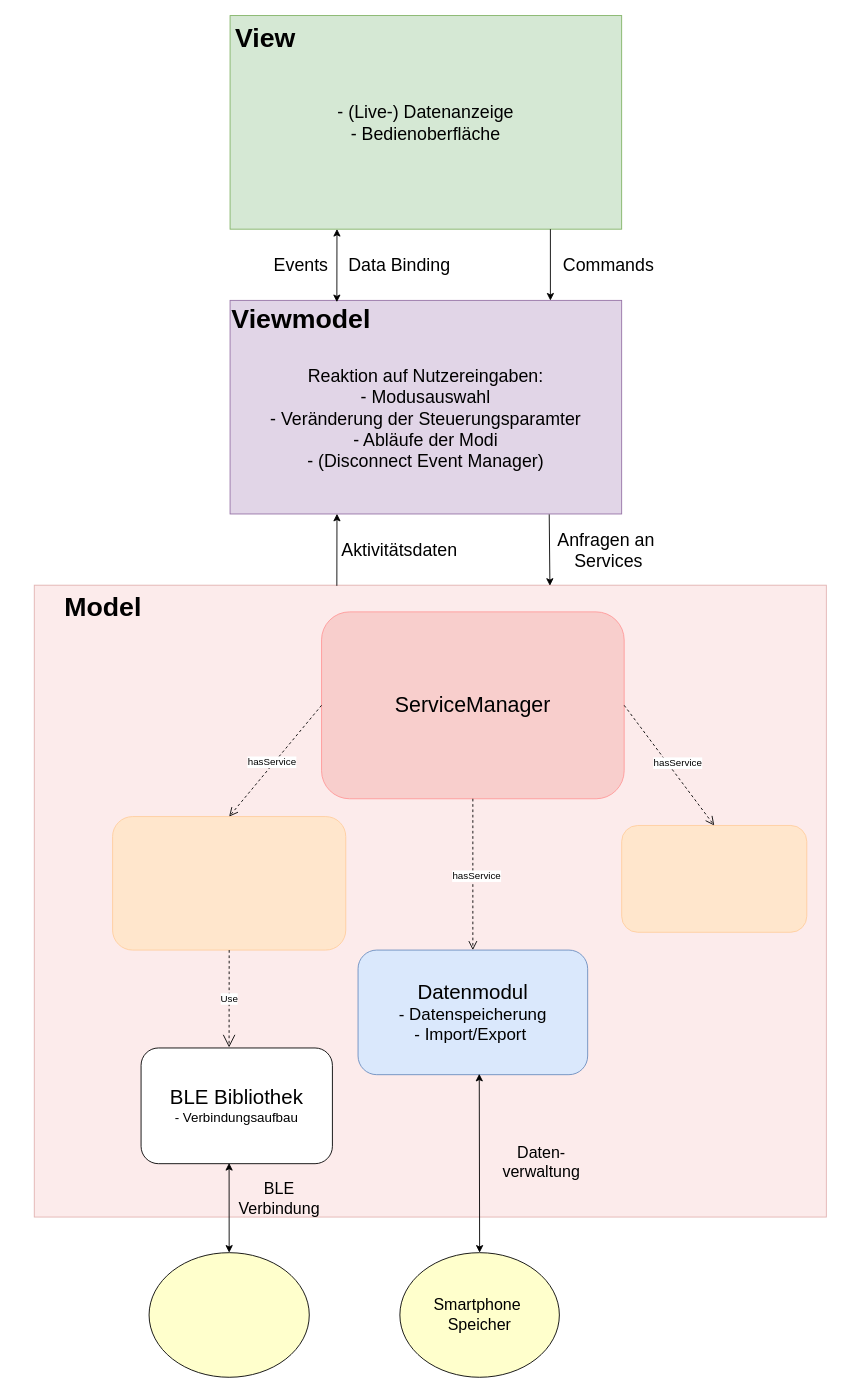
This 842x1393 diagram has some shape labels left out. The box of each missing label's shape, as (x1, y1, x2, y2) in pixels:
Bibliothek - Datenauslesung - Steuerungsparamteranpassung: (112, 816, 346, 950)
Erweiterungsmodul - Aktivitätserkennung -> insb. Schritterkennung: (621, 825, 807, 932)
eSense Kopfhörer: (148, 1252, 309, 1377)
